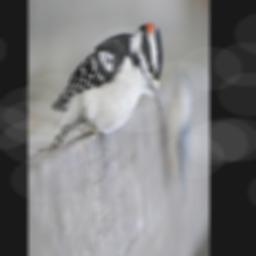Woodpecker: (36, 7, 169, 156)
